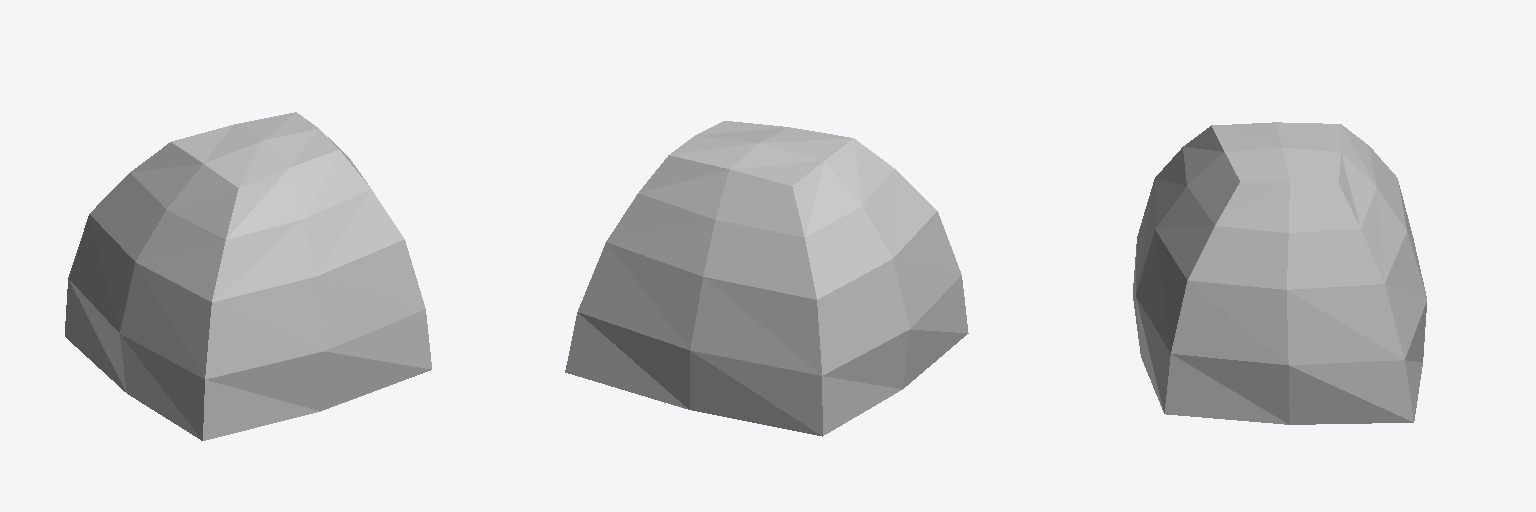
Rendered from rock1.obj.
3 renders of one model, left to right at view 1: azimuth 30°, elevation 25°; view 2: azimuth 150°, elevation 25°; view 3: azimuth 270°, elevation 25°, orthographic.
Parts seen in each view (by area): view 1: Cube; view 2: Cube; view 3: Cube.
Boxes of the visible parts, x1,y1,x2,y2 form: Cube: [65, 112, 431, 440]; Cube: [565, 121, 968, 436]; Cube: [1133, 122, 1426, 424].
Bounding box in the file's own units: 1.04 × 0.8028 × 0.9554.